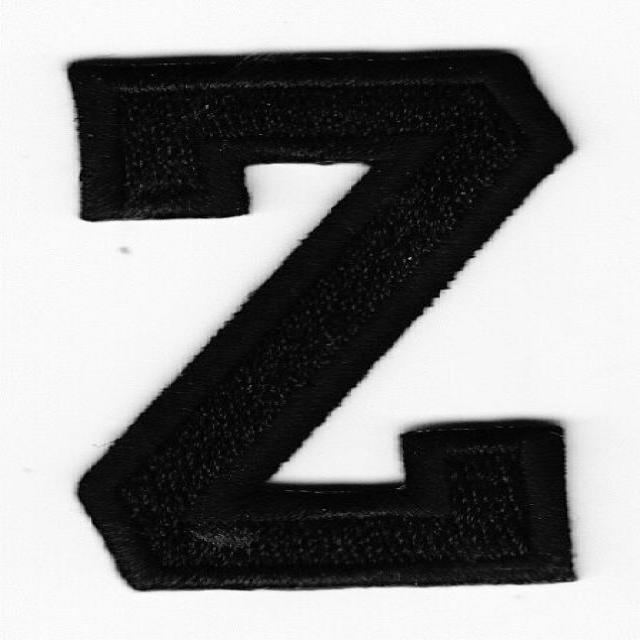Z: (30, 16, 588, 610)
